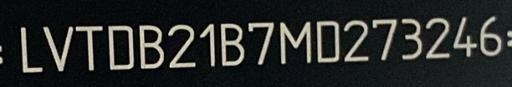letter: (278, 19, 314, 66), (42, 25, 74, 74), (246, 18, 276, 67), (106, 23, 136, 72), (74, 23, 104, 72), (340, 18, 372, 63), (166, 23, 198, 68), (370, 14, 398, 63), (450, 15, 480, 60), (218, 21, 246, 68), (478, 14, 504, 63), (424, 16, 452, 61), (314, 18, 342, 63), (136, 24, 164, 69), (400, 16, 424, 63), (20, 26, 44, 73), (198, 21, 218, 68)
